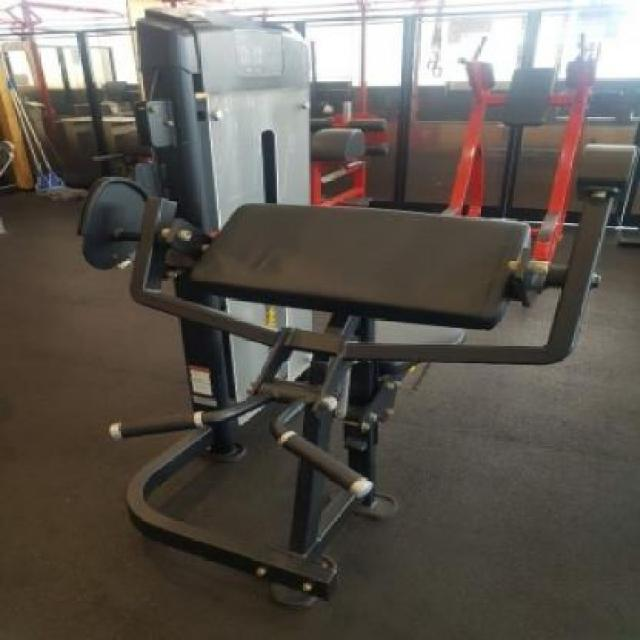arm curl machine: (77, 143, 621, 609)
